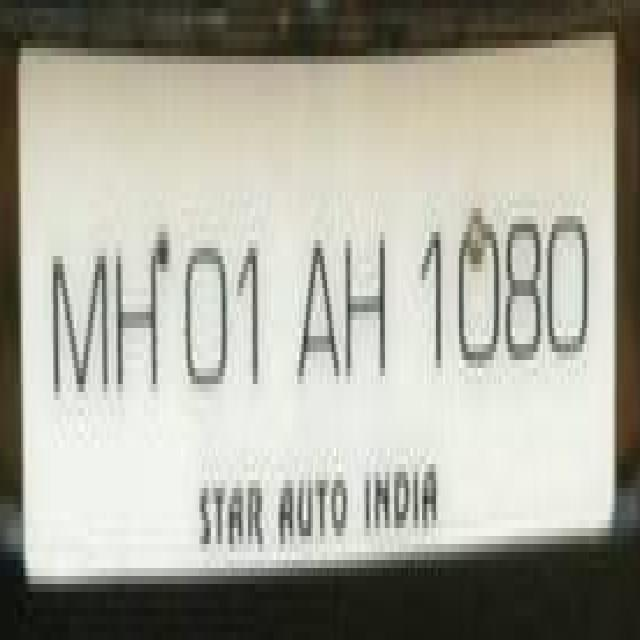license_plate: (2, 32, 610, 584)
